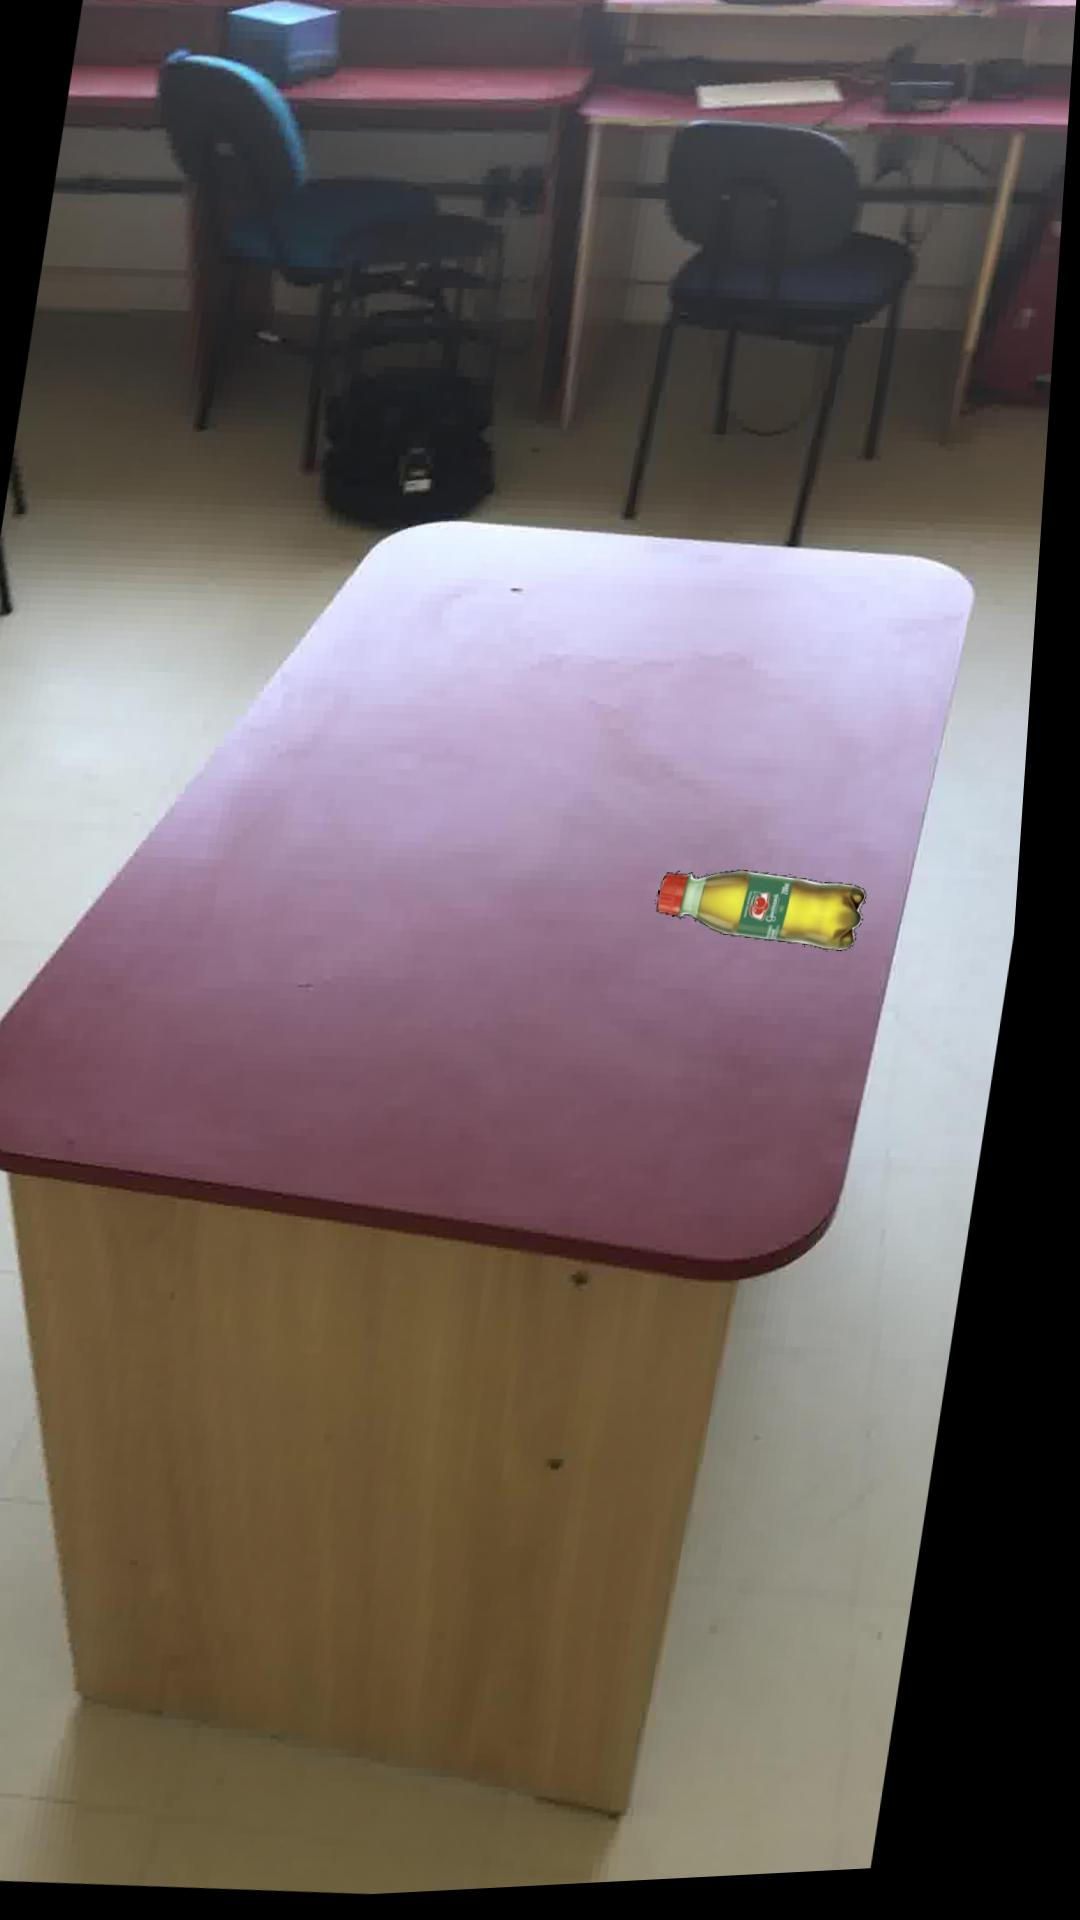guarana: (670, 877, 881, 959)
